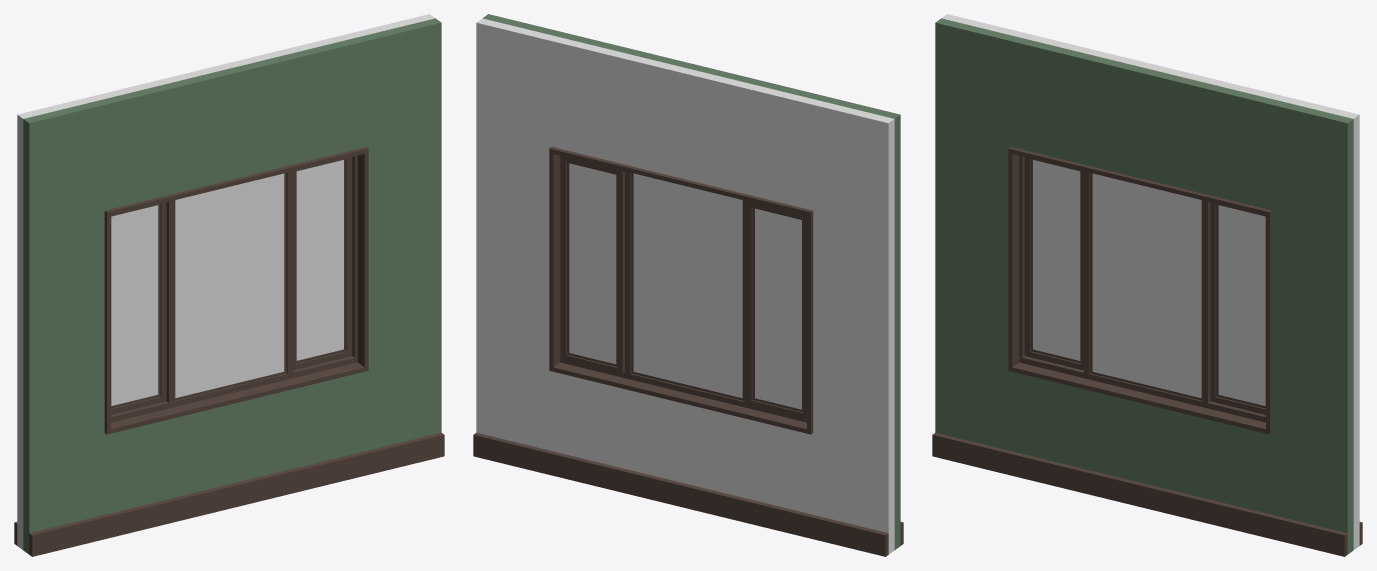
Rendered from h_wall_1_window3_4.fbx.
3 renders of one model, left to right at view 1: azimuth 30°, elevation 25°; view 2: azimuth 150°, elevation 25°; view 3: azimuth 330°, elevation 25°, orthographic.
Visible parts, largest first — view 1: Cube; view 2: Cube; view 3: Cube.
Part boxes in pixels (left/top/right/bottom): Cube: left=14, top=14, right=444, bottom=556; Cube: left=473, top=14, right=903, bottom=556; Cube: left=932, top=14, right=1362, bottom=556.
Bounding box in the file's own units: 400 × 400 × 30.
